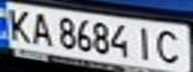4: (109, 21, 133, 59)
6: (72, 17, 93, 53)
8: (54, 15, 78, 51), (90, 19, 112, 56)
A: (27, 9, 57, 46)
C: (151, 26, 187, 65)
I: (130, 24, 160, 62)
K: (3, 4, 36, 43)
